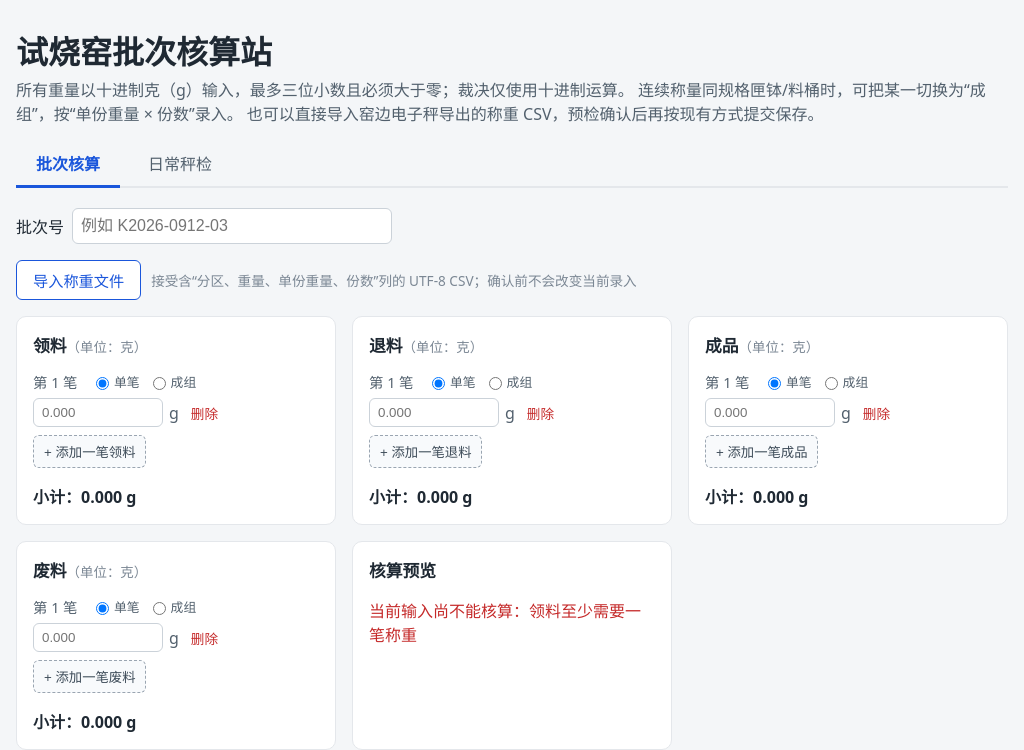
Test: 日常秤检工作台 › 刷新工作台：挂载即通过同一资源查询契约恢复倒序记录
Click the tab with test id "tab-scale". click: [180, 165]
box: [128,141,232,188]
(page scrolled)
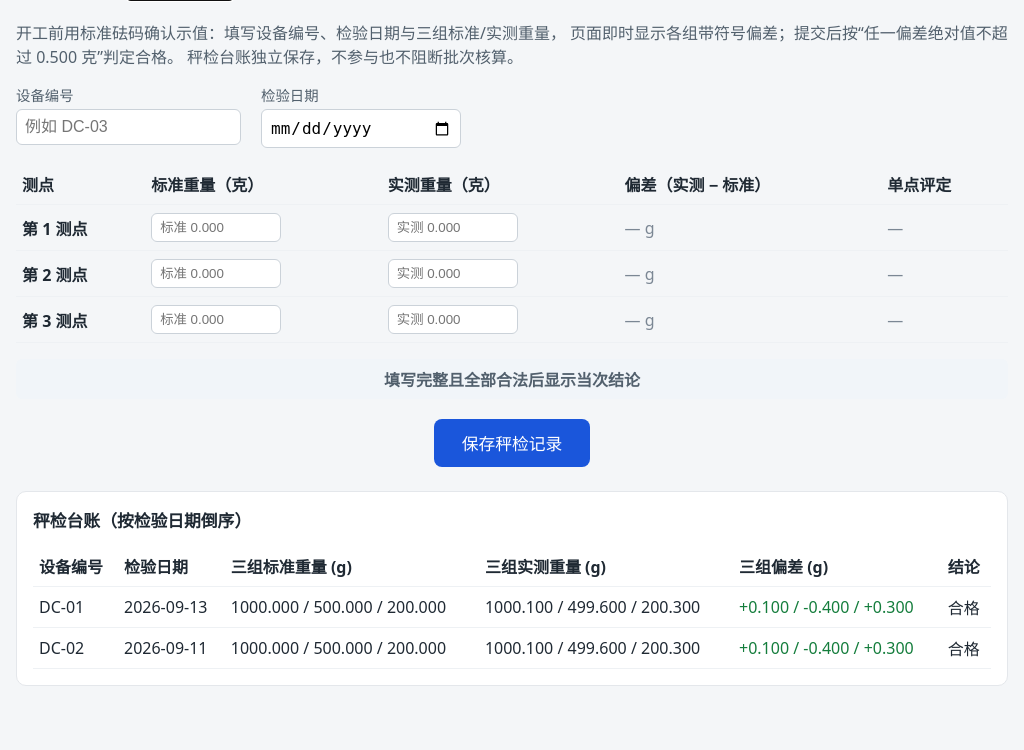
Result: the row with test id "^scale-row-" shows "2026-09-13" at [124,596,208,618]
Result: the row with test id "^scale-row-" shows "2026-09-11" at [124,637,208,659]
